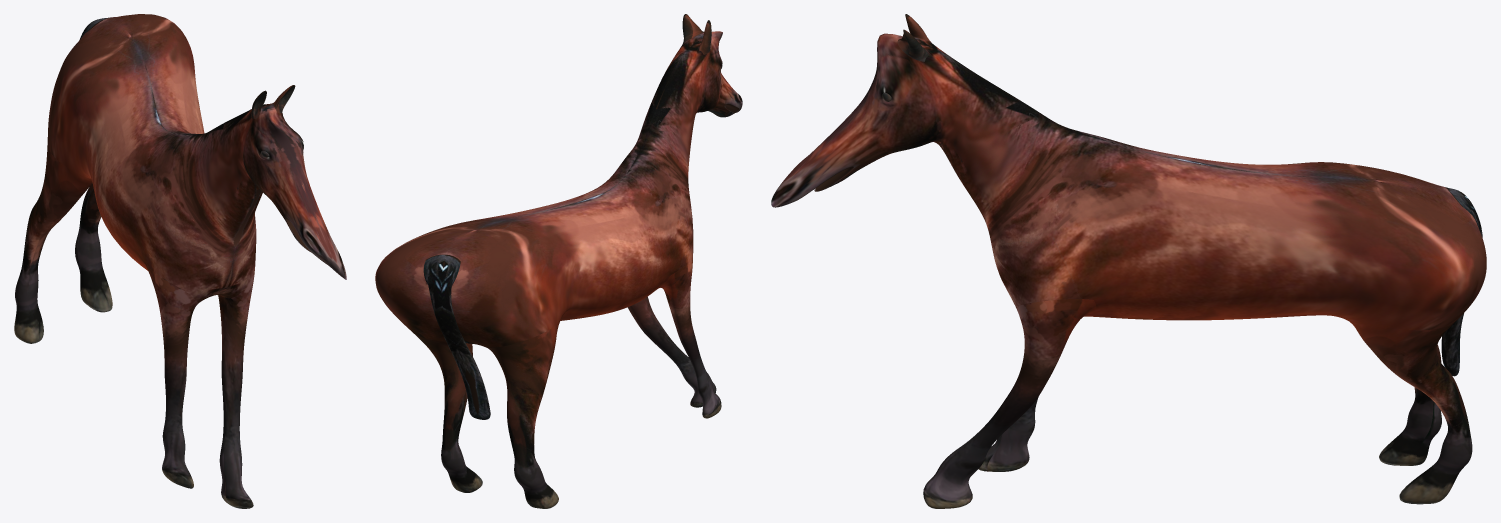
The model's file is caballo.glb.
The picture shows the model from 3 angles, left to right: view 1: azimuth 30°, elevation 25°; view 2: azimuth 150°, elevation 25°; view 3: azimuth 270°, elevation 25°; orthographic projection. The views are drawn at different scales.
Visible parts, largest first — view 1: 10026_Horse_v01-it2; view 2: 10026_Horse_v01-it2; view 3: 10026_Horse_v01-it2.
Part boxes in pixels (left/top/right/bottom): 10026_Horse_v01-it2: left=14, top=14, right=346, bottom=508; 10026_Horse_v01-it2: left=375, top=14, right=742, bottom=508; 10026_Horse_v01-it2: left=771, top=14, right=1486, bottom=508.
Bounding box in the file's own units: 19.17 × 39.01 × 50.92.
Materials: 1 (1 with a texture image).
